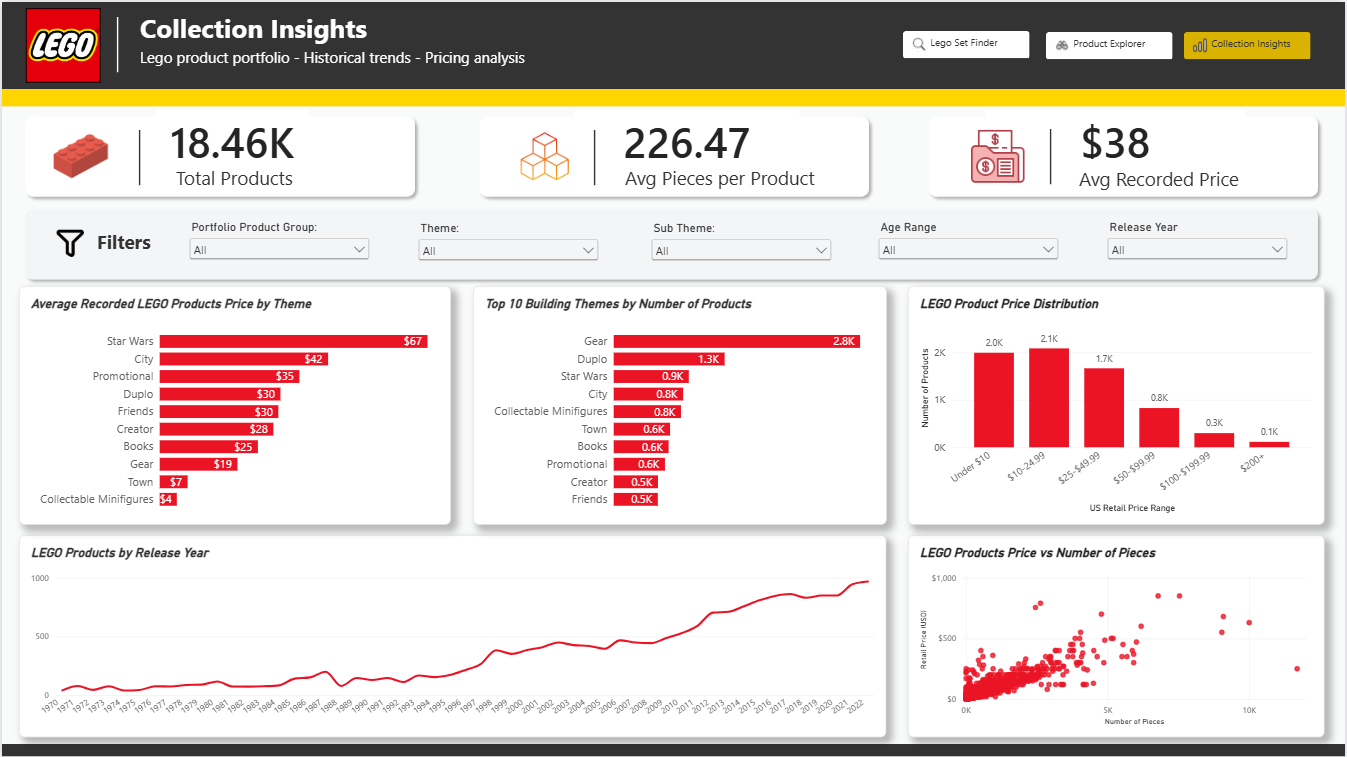

What the dashboard file says about the page in this screenshot:
{"tool":"powerbi","page":{"name":"Collection Insights","canvas":[1920,1080],"ordinal":2},"visuals":[{"type":"shape","box":[0,0,1920,135.7],"z":0},{"type":"image","box":[0,8.8,175.1,106.5],"z":1000},{"type":"shape","box":[24.8,154.7,574.8,132.8],"z":2000},{"type":"shape","box":[24.8,287.4,1864.6,118.2],"z":3000},{"type":"shape","box":[0,1060.7,1920,19],"z":4000},{"type":"card","fields":{"Values":["Measure Table.Total Sets"]},"box":[220.3,154.7,217.4,86.1],"z":5000},{"type":"lineChart","title":"LEGO Products by Release Year","fields":{"Category":["lego_sets.year"],"Y":["Measure Table.Total Sets"]},"box":[24.8,761.6,1238.7,288.9],"z":6000},{"type":"clusteredBarChart","title":"Average Recorded LEGO Products Price by Theme","fields":{"Category":["lego_sets.theme"],"Y":["Measure Table.Avg Price"]},"box":[24.8,405.6,617.1,341.4],"z":7000},{"type":"scatterChart","title":"LEGO Products Price vs Number of Pieces","fields":{"X":["lego_sets.pieces"],"Y":["lego_sets.price"]},"box":[1294.1,761.6,595.3,288.9],"z":8000},{"type":"clusteredColumnChart","title":"LEGO Product Price Distribution","fields":{"Category":["lego_sets.Price Range"],"Y":["Measure Table.Priced Products"]},"box":[1294.1,405.6,595.3,341.4],"z":9000},{"type":"slicer","fields":{"Values":["lego_sets.Portfolio Product Group"]},"box":[263.3,311.2,267,68.6],"z":10000},{"type":"clusteredBarChart","title":"Top 10 Building Themes by Number of Products","fields":{"Category":["lego_sets.theme"],"Y":["Measure Table.Total Sets"]},"box":[672.6,405.6,590.9,341.4],"z":11000},{"type":"actionButton","box":[1287.5,42,180.9,39.4],"z":12000},{"type":"textbox","box":[197,11.7,564.6,71.5],"z":13000},{"type":"textbox","box":[197,64.2,564.6,71.5],"z":14000},{"type":"shape","box":[124,21.9,81.7,78.8],"z":15000},{"type":"shape","box":[0,124,1920,24.8],"z":16000},{"type":"shape","box":[672.6,154.7,574.8,132.8],"z":17000},{"type":"shape","box":[1314.5,154.7,574.8,132.8],"z":18000},{"type":"shape","box":[156.1,182.4,81.7,78.8],"z":19000},{"type":"textbox","box":[248,233.4,300.5,55.4],"z":20000},{"type":"card","fields":{"Values":["Measure Table.Avg Pieces per Product"]},"box":[817,154.7,322.4,86.1],"z":21000},{"type":"shape","box":[805.3,182.4,81.7,78.8],"z":22000},{"type":"textbox","box":[890,233.4,300.5,55.4],"z":23000},{"type":"card","fields":{"Values":["Measure Table.Avg Recorded Price (USD)"]},"box":[1405,154.7,372,86.1],"z":24000},{"type":"shape","box":[1457.7,180.9,81.7,78.8],"z":25000},{"type":"textbox","box":[1538.9,234.1,300.5,55.4],"z":26000},{"type":"slicer","fields":{"Values":["lego_sets.theme"]},"box":[590.5,312.6,267,68.6],"z":27000},{"type":"slicer","fields":{"Values":["lego_sets.subtheme"]},"box":[923.1,312.6,267,68.6],"z":28000},{"type":"slicer","fields":{"Values":["lego_sets.Age Range"]},"box":[1247.6,311.2,267,68.6],"z":29000},{"type":"slicer","fields":{"Values":["lego_sets.year"]},"box":[1574.2,310.8,267,68.6],"z":30000},{"type":"actionButton","box":[1491,42.6,180.9,39.4],"z":31000},{"type":"actionButton","box":[1689.2,42.6,180.9,39.4],"z":32000},{"type":"image","box":[71.8,315.2,51.9,57.2],"z":33000},{"type":"textbox","box":[135.7,324.5,111.7,45.2],"z":34000},{"type":"image","box":[70.5,180.9,85.1,78.5],"z":35000},{"type":"image","box":[732.9,180.9,85.1,78.5],"z":36000},{"type":"image","box":[1380.6,180.9,85.1,78.5],"z":37000}]}

Visuals, with their boxes in screenshot pixels (x1, y1, x2, y2), scaled from the page's 1920x1080 canvas onto the 1347x757 screenshot:
shape: x1=0 y1=0 x2=1346 y2=95
image: x1=0 y1=6 x2=123 y2=81
shape: x1=17 y1=108 x2=421 y2=202
shape: x1=17 y1=201 x2=1326 y2=284
shape: x1=0 y1=743 x2=1346 y2=756
card - Measure Table.Total Sets: x1=155 y1=108 x2=307 y2=169
"LEGO Products by Release Year" lineChart: x1=17 y1=534 x2=886 y2=736
"Average Recorded LEGO Products Price by Theme" clusteredBarChart: x1=17 y1=284 x2=450 y2=524
"LEGO Products Price vs Number of Pieces" scatterChart: x1=908 y1=534 x2=1326 y2=736
"LEGO Product Price Distribution" clusteredColumnChart: x1=908 y1=284 x2=1326 y2=524
slicer - lego_sets.Portfolio Product Group: x1=185 y1=218 x2=372 y2=266
"Top 10 Building Themes by Number of Products" clusteredBarChart: x1=472 y1=284 x2=886 y2=524
actionButton: x1=903 y1=29 x2=1030 y2=57
textbox: x1=138 y1=8 x2=534 y2=58
textbox: x1=138 y1=45 x2=534 y2=95
shape: x1=87 y1=15 x2=144 y2=71
shape: x1=0 y1=87 x2=1346 y2=104
shape: x1=472 y1=108 x2=875 y2=202
shape: x1=922 y1=108 x2=1325 y2=202
shape: x1=110 y1=128 x2=167 y2=183
textbox: x1=174 y1=164 x2=385 y2=202
card - Measure Table.Avg Pieces per Product: x1=573 y1=108 x2=799 y2=169
shape: x1=565 y1=128 x2=622 y2=183
textbox: x1=624 y1=164 x2=835 y2=202
card - Measure Table.Avg Recorded Price (USD): x1=986 y1=108 x2=1247 y2=169
shape: x1=1023 y1=127 x2=1080 y2=182
textbox: x1=1080 y1=164 x2=1290 y2=203
slicer - lego_sets.theme: x1=414 y1=219 x2=602 y2=267
slicer - lego_sets.subtheme: x1=648 y1=219 x2=835 y2=267
slicer - lego_sets.Age Range: x1=875 y1=218 x2=1063 y2=266
slicer - lego_sets.year: x1=1104 y1=218 x2=1292 y2=266
actionButton: x1=1046 y1=30 x2=1173 y2=57
actionButton: x1=1185 y1=30 x2=1312 y2=57
image: x1=50 y1=221 x2=87 y2=261
textbox: x1=95 y1=227 x2=174 y2=259
image: x1=49 y1=127 x2=109 y2=182
image: x1=514 y1=127 x2=574 y2=182
image: x1=969 y1=127 x2=1028 y2=182
